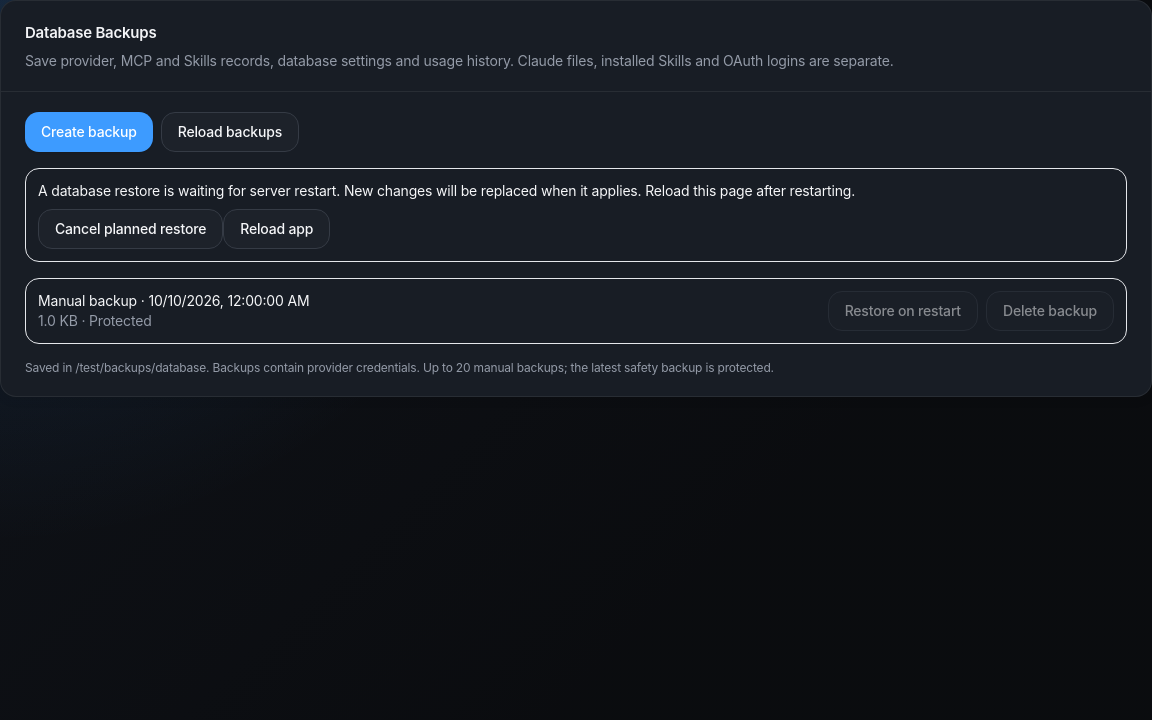
Test case: shows pending restore and keeps protected backups from deletion
This screenshot has width=1152, height=720.
Expected: the button "Delete backup" is disabled, [986,291,1114,331]
Expected: the button "Restore on restart" is disabled, [828,291,978,331]
Click the button "Cancel planned restore" at (131, 229), box [38,209,223,249]
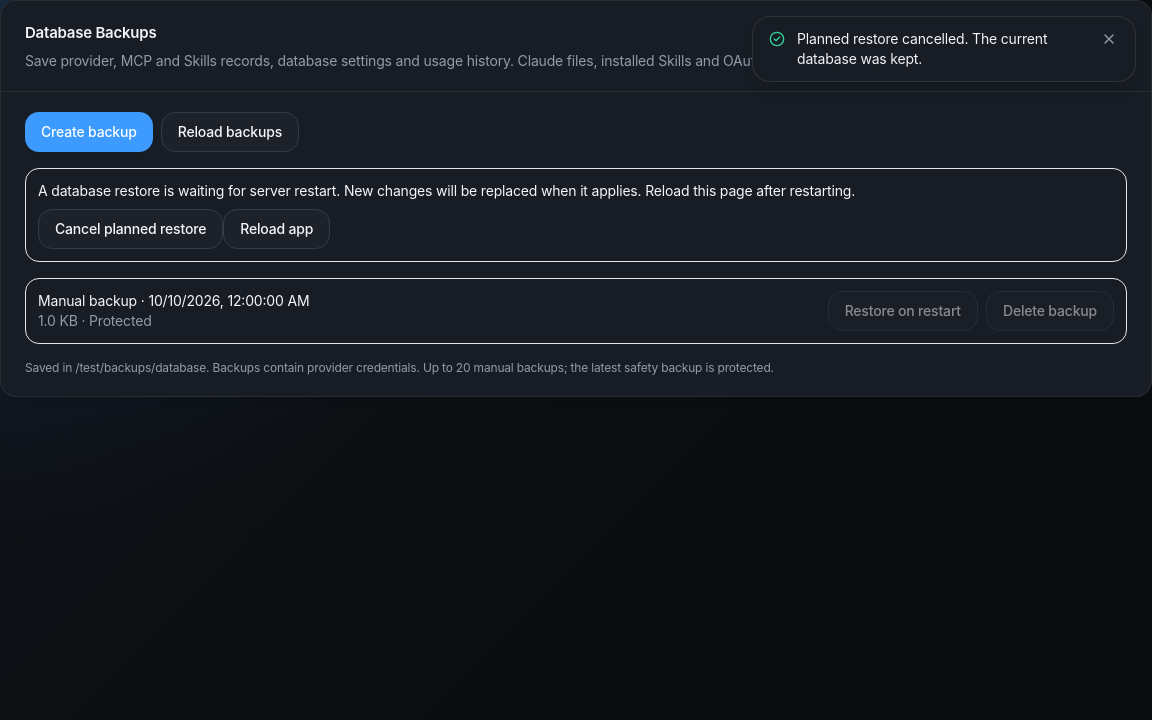
Expected: the message "Planned restore cancelled. The current database was kept." is shown, [752,16,1136,82]
